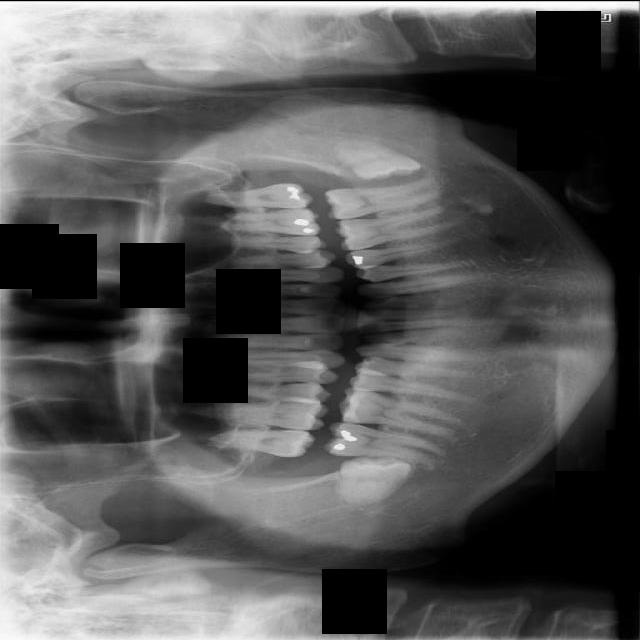52: (325, 417, 369, 459), (283, 200, 321, 240), (345, 244, 380, 272), (271, 183, 310, 208)
73: (582, 20, 586, 24)
BioHorizons Implant: (202, 180, 314, 208)
Biomet 3i Implant: (330, 134, 424, 191)
Blue Sky Bio Implant: (324, 176, 441, 221)
Caries: (206, 424, 315, 458)
Implant: (323, 419, 444, 465)
Keystone Dental Implant: (339, 458, 413, 505)
